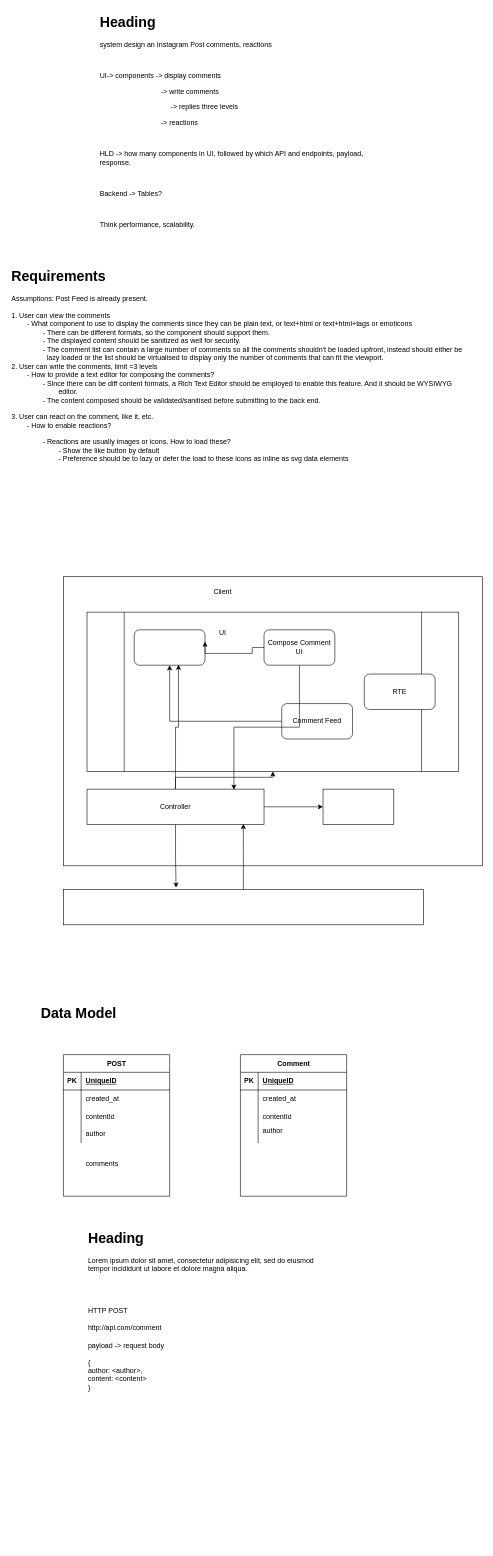
This 493x1556 diagram has some shape labels left out. The centre of each missing label's shape, as x and y in pixels:
"Client Data Store" belongs at point 358,807.
"Post UI" belongs at point 169,647.
"Server" belongs at point 243,907.
